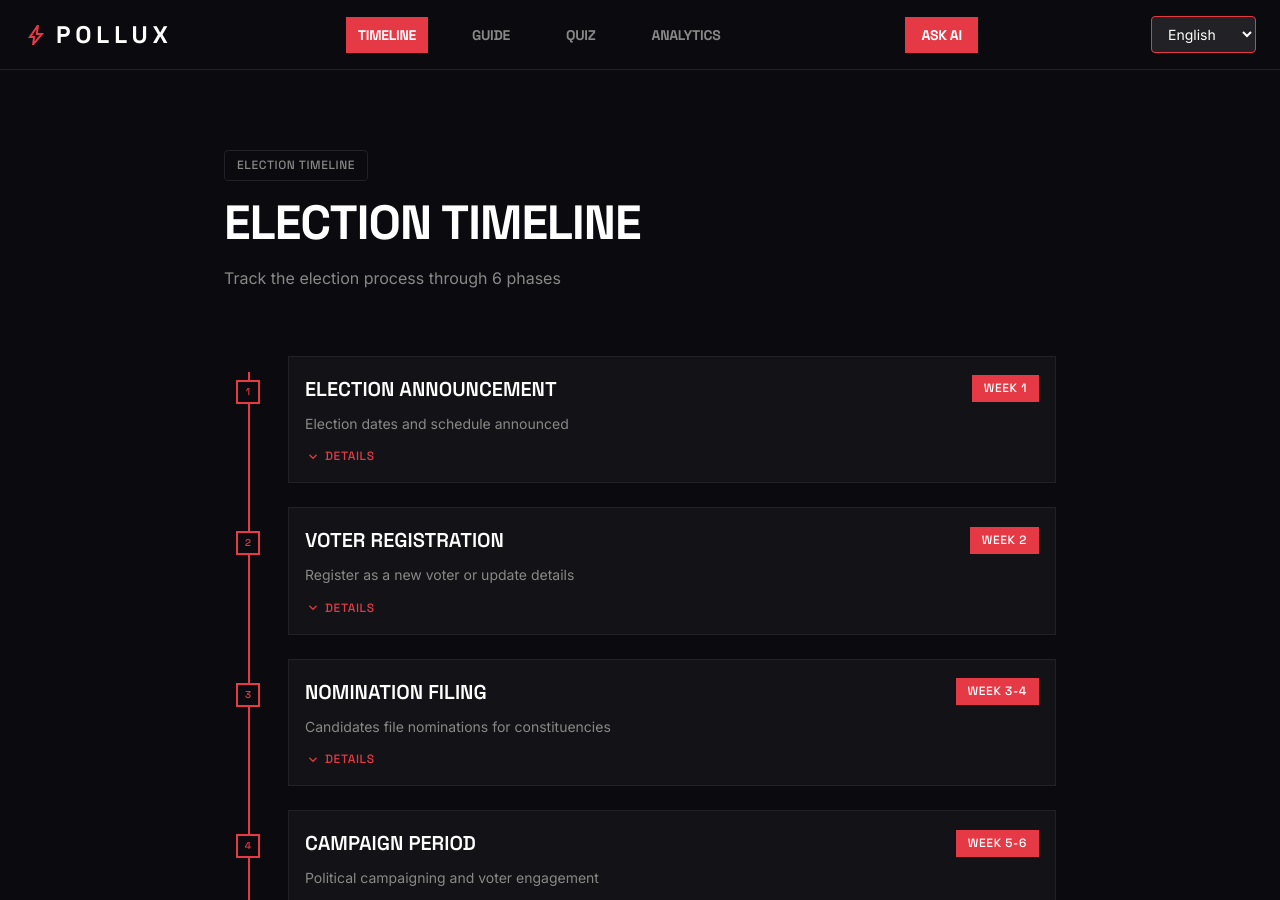
Test: App integration › renders the timeline route and responds to language switching
Expected: the heading "Election Timeline" is shown, x1=224 y1=192 x2=641 y2=253
Select "हिन्दी" in the dropdown named "Language". click: (1204, 34)
box: x1=1151 y1=16 x2=1256 y2=53
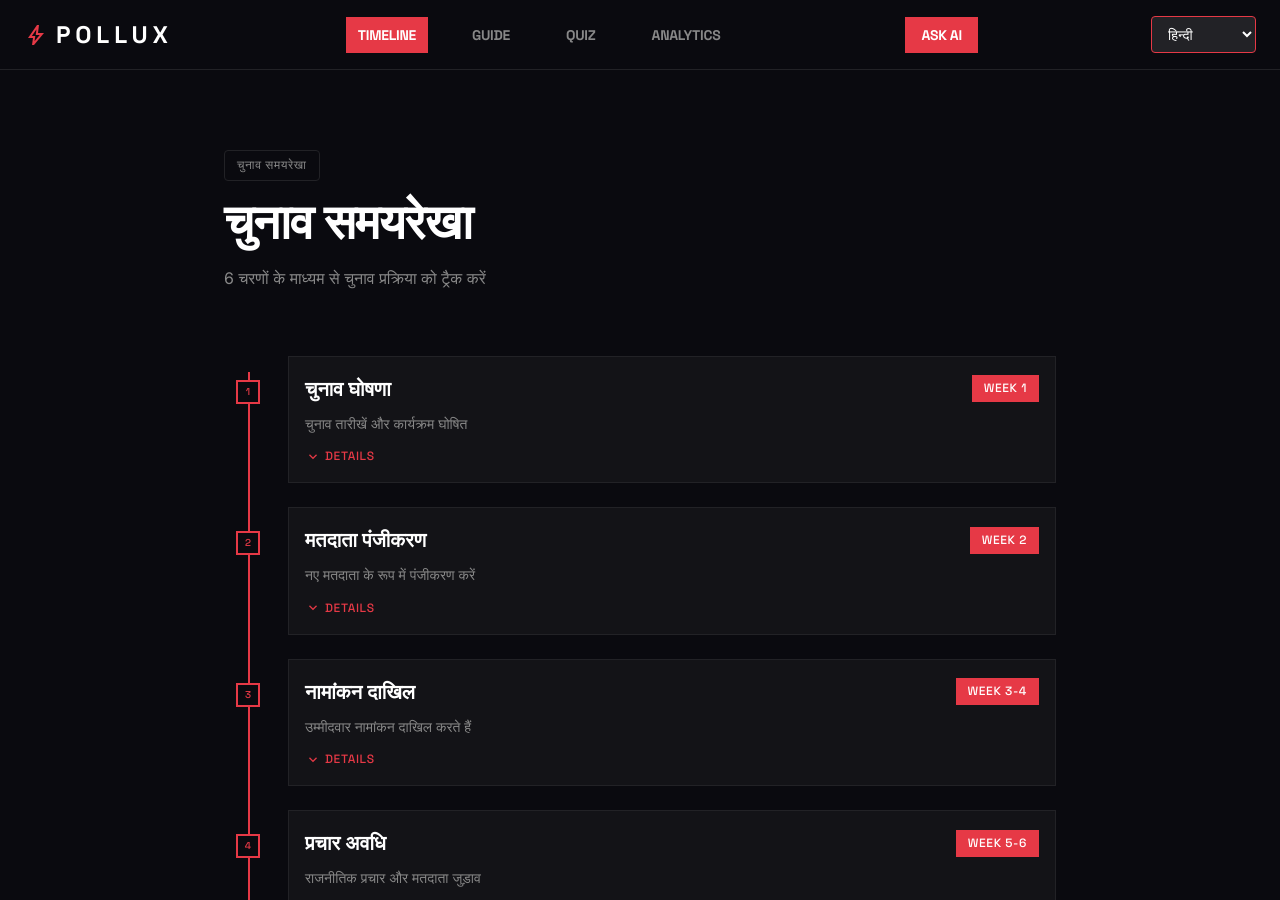
Expected: the heading "चुनाव समयरेखा" is shown, x1=224 y1=192 x2=472 y2=253
